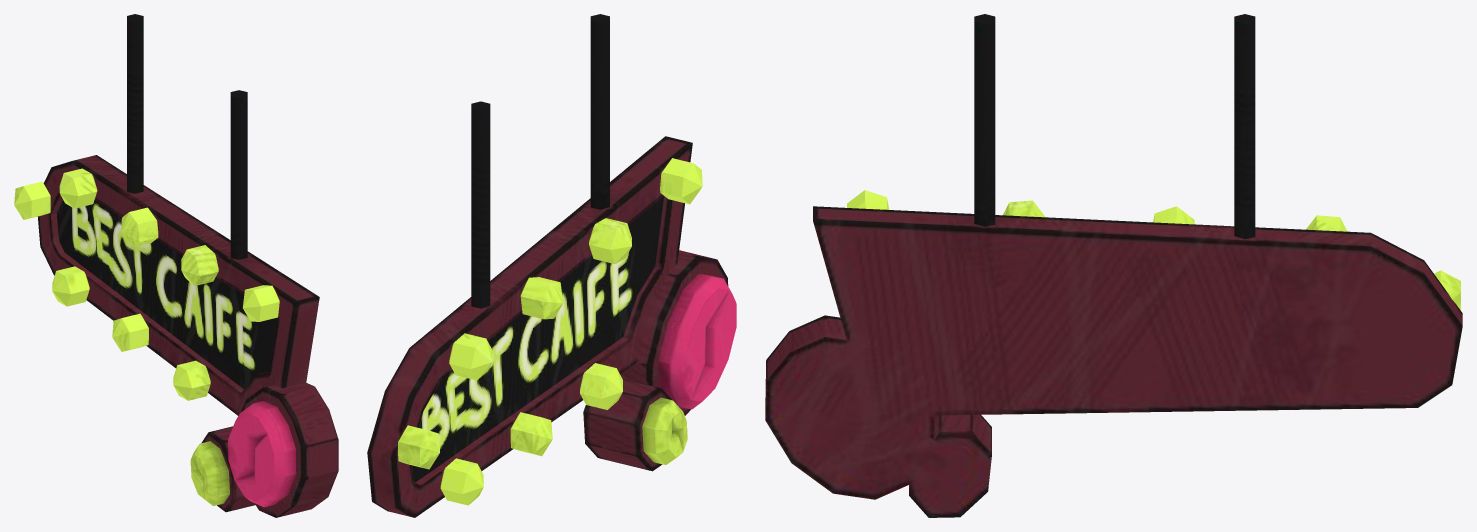
File: Entry Panel 1.glb
3 renders of one model, left to right at view 1: azimuth 30°, elevation 25°; view 2: azimuth 150°, elevation 25°; view 3: azimuth 270°, elevation 25°, orthographic. The views are drawn at different scales.
Visible parts, largest first — view 1: SM_EntryPanel1; view 2: SM_EntryPanel1; view 3: SM_EntryPanel1.
Boxes of the visible parts, left/top/right/bottom form: SM_EntryPanel1: left=14, top=14, right=338, bottom=517; SM_EntryPanel1: left=367, top=14, right=736, bottom=517; SM_EntryPanel1: left=765, top=14, right=1462, bottom=517.
Size of the model in its own units: 0.275 by 1.57 by 2.02.
1 material, 1 textured.
